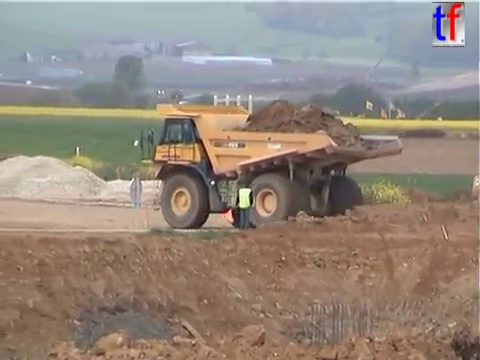excavator: (469, 173, 480, 205)
truck: (131, 101, 405, 231)
worker: (233, 180, 256, 232)
